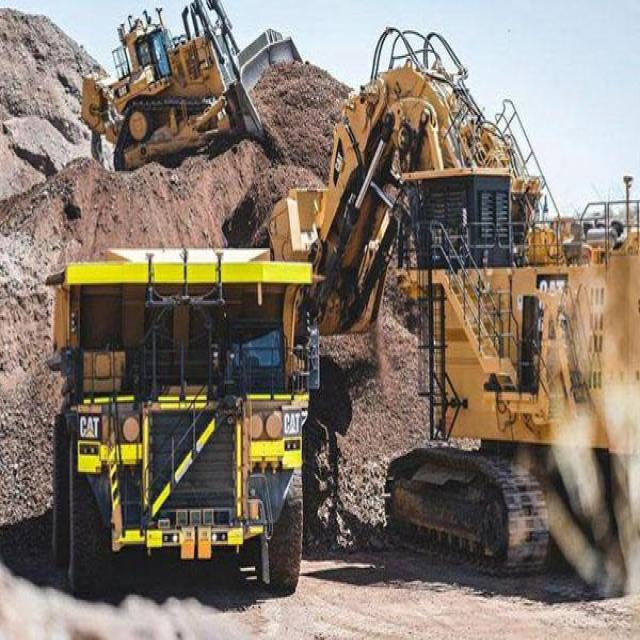buldozerpayloadergrader: (73, 0, 294, 195)
dump_truck: (31, 230, 331, 621)
excavator: (269, 24, 639, 627)
